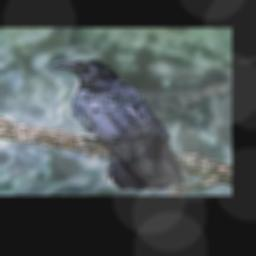Crow: (52, 59, 185, 191)
